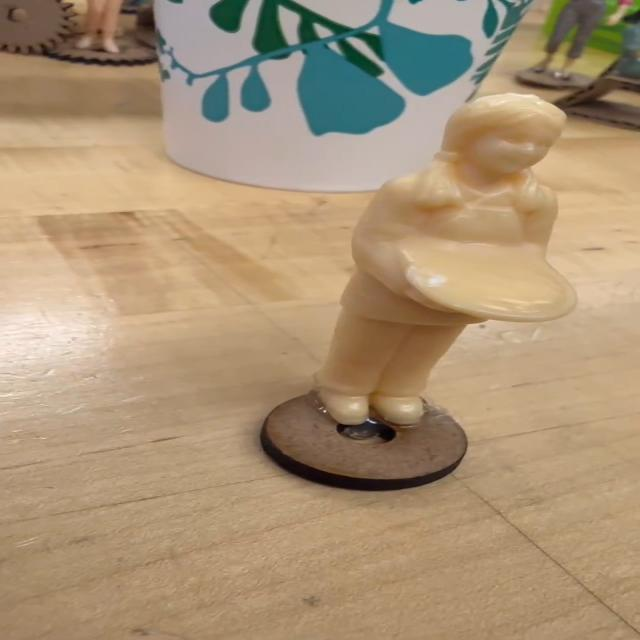Unauthorized: (268, 87, 640, 522)
